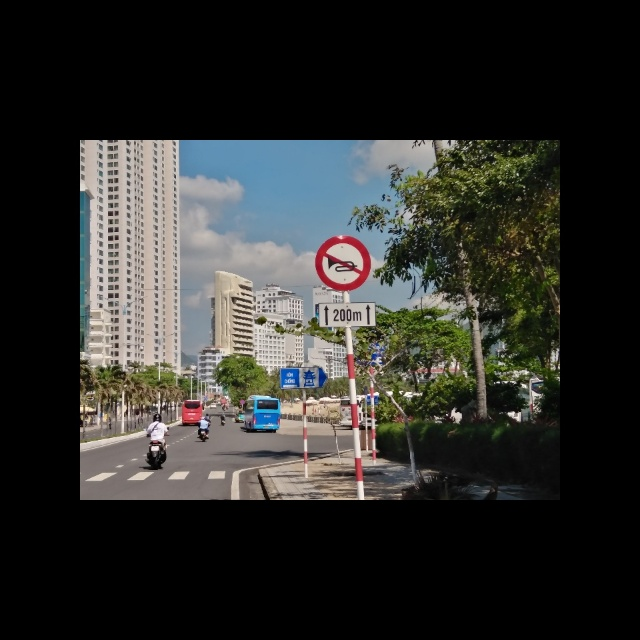Cấm bấm còi: (315, 235, 372, 291)
